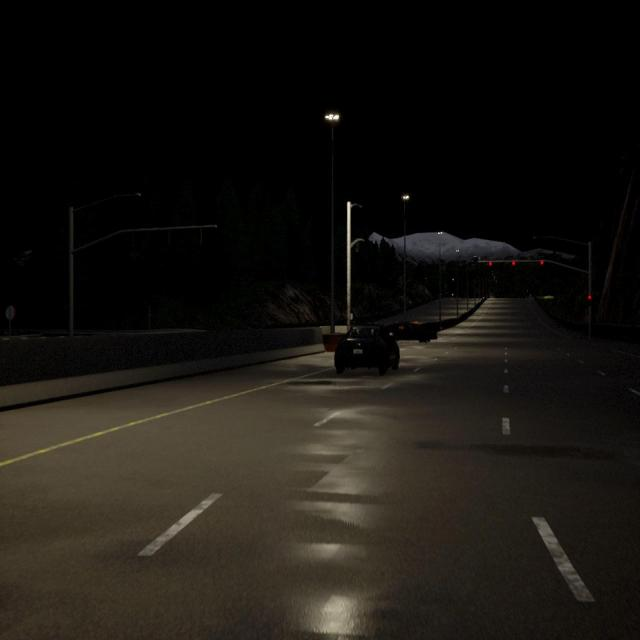Traffic_Signs: (5, 306, 15, 319)
Vehicle: (334, 323, 400, 375)
traffic_light: (200, 227, 205, 246), (169, 229, 173, 246), (132, 231, 135, 248), (588, 294, 591, 306), (540, 260, 544, 265), (512, 260, 515, 266), (489, 261, 492, 266)
